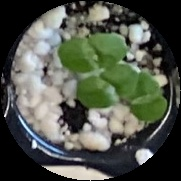Basil: (56, 32, 128, 68), (78, 65, 138, 108), (127, 71, 168, 122)
